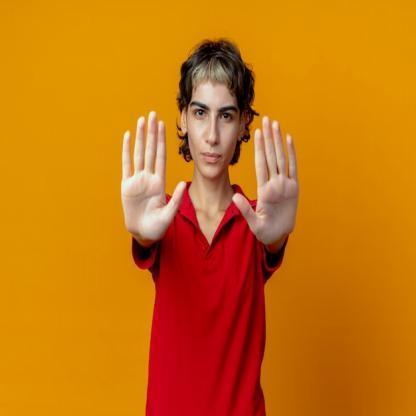stop: (230, 113, 302, 247), (120, 108, 187, 244)
